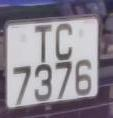3: (34, 62, 56, 106)
6: (74, 57, 94, 100)
7: (10, 61, 34, 110), (53, 60, 76, 102)
C: (52, 18, 77, 66)
T: (30, 22, 56, 67)
